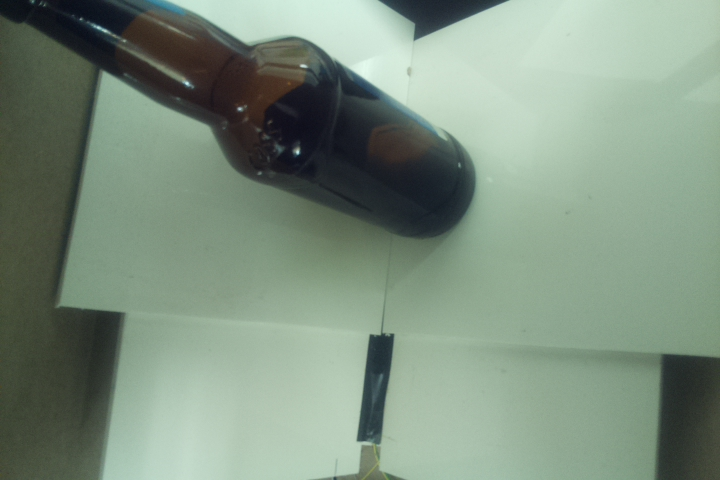makju: (1, 1, 477, 241)
